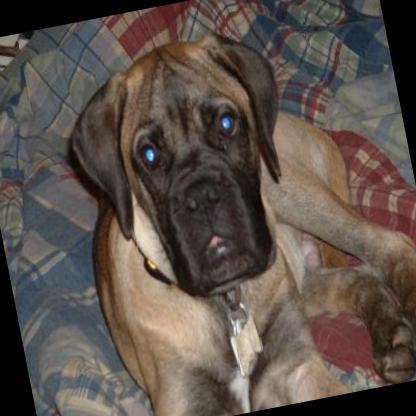bull_mastiff: (49, 0, 416, 416)
